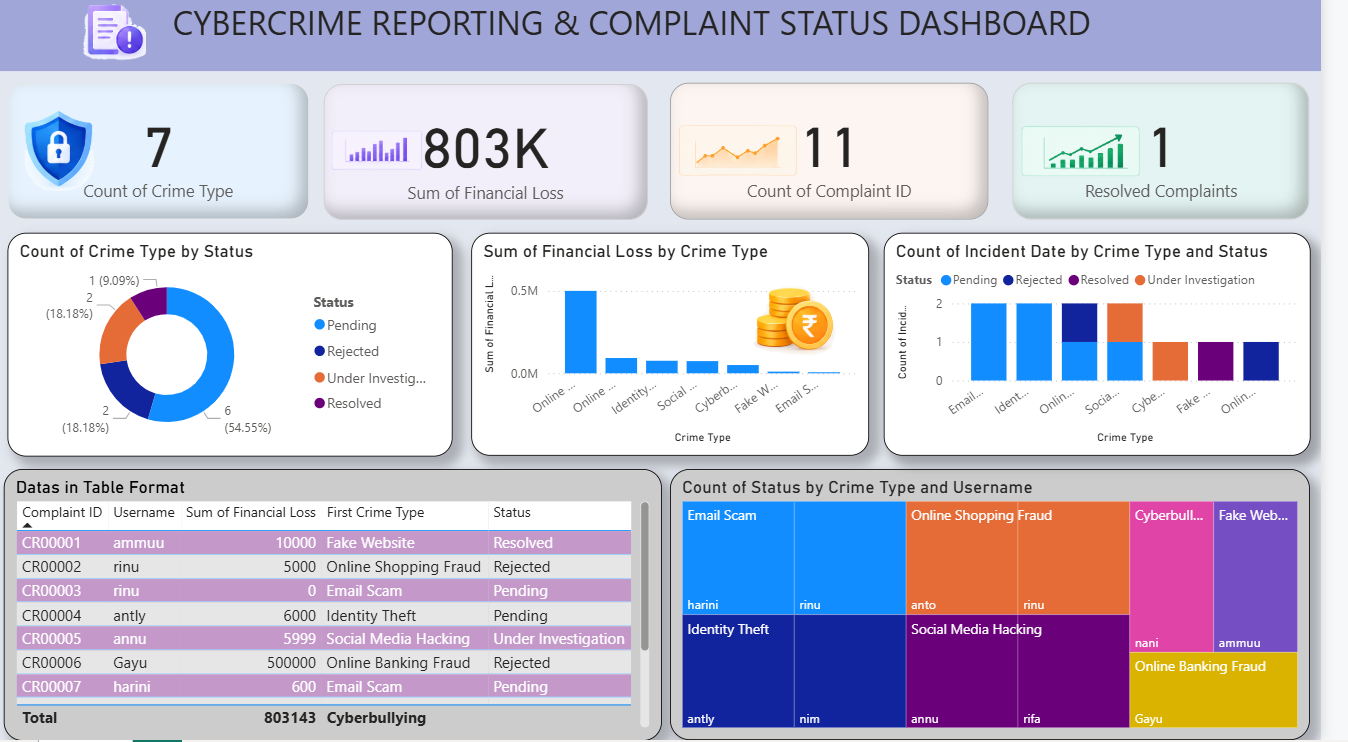

What the dashboard file says about the page in this screenshot:
{"tool":"powerbi","page":{"name":"Page 1","canvas":[1280,720],"ordinal":0},"visuals":[{"type":"clusteredColumnChart","fields":{"Y":["Sum(compdown.Financial Loss)"],"Category":["compdown.Crime Type"]},"box":[459.7,230.5,384.2,215.4],"z":0},{"type":"donutChart","fields":{"Category":["compdown.Status"],"Y":["CountNonNull(compdown.Crime Type)"]},"box":[12.1,230.4,429.5,216],"z":1000},{"type":"card","fields":{"Values":["Sum(compdown.Financial Loss)"]},"box":[317.3,86.9,312.5,131.5],"z":2000},{"type":"card","fields":{"Values":["CountNonNull(compdown.Complaint ID)"]},"box":[651.8,85.1,307.4,131.7],"z":3000},{"type":"card","fields":{"Values":["Count(compdown.Crime Type)"]},"box":[12.3,85.1,290.9,131.7],"z":4000},{"type":"tableEx","title":"Datas  in Table Format","fields":{"Values":["compdown.Complaint ID","compdown.Username","Sum(compdown.Financial Loss)","Min(compdown.Crime Type)","compdown.Status"]},"box":[8.2,458.3,635.3,262.1],"z":5000},{"type":"treemap","fields":{"Group":["compdown.Crime Type"],"Details":["compdown.Username"],"Values":["CountNonNull(compdown.Status)"]},"box":[651.5,458.4,617.7,261.8],"z":6000},{"type":"lineStackedColumnComboChart","fields":{"Category":["compdown.Crime Type"],"Y":["CountNonNull(compdown.Incident Date)"],"Series":["compdown.Status"]},"box":[857.6,230.5,411.7,215.4],"z":7000},{"type":"card","fields":{"Values":["compdown.Resolved Complaints"]},"box":[982.5,85.1,286.8,131.7],"z":8000},{"type":"actionButton","box":[0,0,100,40],"z":9000},{"type":"textbox","box":[0,0,1280.3,74.1],"z":10000},{"type":"image","box":[982.5,101.5,131.7,100.2],"z":11000},{"type":"image","box":[651.8,111.1,131.7,79.6],"z":12000},{"type":"image","box":[8.2,101.5,108.4,100.2],"z":13000},{"type":"image","box":[717.8,271.4,107.4,88.1],"z":14000},{"type":"image","box":[62.7,0,106.2,73.6],"z":15000},{"type":"image","box":[317.3,111,102.5,79.6],"z":16000}]}

Visuals, with their boxes in screenshot pixels (x1, y1, x2, y2), scaled from the page's 1280x720 canvas onto the 1348x742 screenshot:
clusteredColumnChart - Sum(compdown.Financial Loss) x compdown.Crime Type: <region>484, 238, 889, 460</region>
donutChart - compdown.Status x CountNonNull(compdown.Crime Type): <region>13, 237, 465, 460</region>
card - Sum(compdown.Financial Loss): <region>334, 90, 663, 225</region>
card - CountNonNull(compdown.Complaint ID): <region>686, 88, 1010, 223</region>
card - Count(compdown.Crime Type): <region>13, 88, 319, 223</region>
"Datas  in Table Format" tableEx: <region>9, 472, 678, 741</region>
treemap - compdown.Crime Type x compdown.Username: <region>686, 472, 1337, 741</region>
lineStackedColumnComboChart - compdown.Crime Type x CountNonNull(compdown.Incident Date): <region>903, 238, 1337, 460</region>
card - compdown.Resolved Complaints: <region>1035, 88, 1337, 223</region>
actionButton: <region>0, 0, 105, 41</region>
textbox: <region>0, 0, 1347, 76</region>
image: <region>1035, 105, 1173, 208</region>
image: <region>686, 114, 825, 197</region>
image: <region>9, 105, 123, 208</region>
image: <region>756, 280, 869, 370</region>
image: <region>66, 0, 178, 76</region>
image: <region>334, 114, 442, 196</region>
